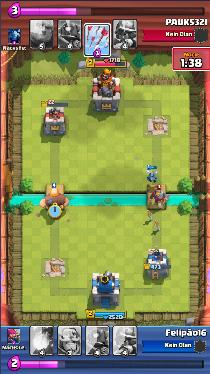ally_giant: (38, 189, 68, 210)
ally_minion: (145, 172, 158, 182)
enemy_knight: (149, 190, 169, 205)
